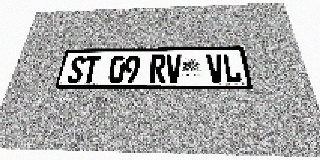0: (108, 55, 126, 83)
9: (123, 55, 141, 83)
L: (222, 53, 242, 83)
R: (150, 55, 166, 83)
S: (66, 56, 86, 83)
T: (81, 56, 101, 83)
V: (206, 54, 225, 83), (166, 54, 182, 83)
